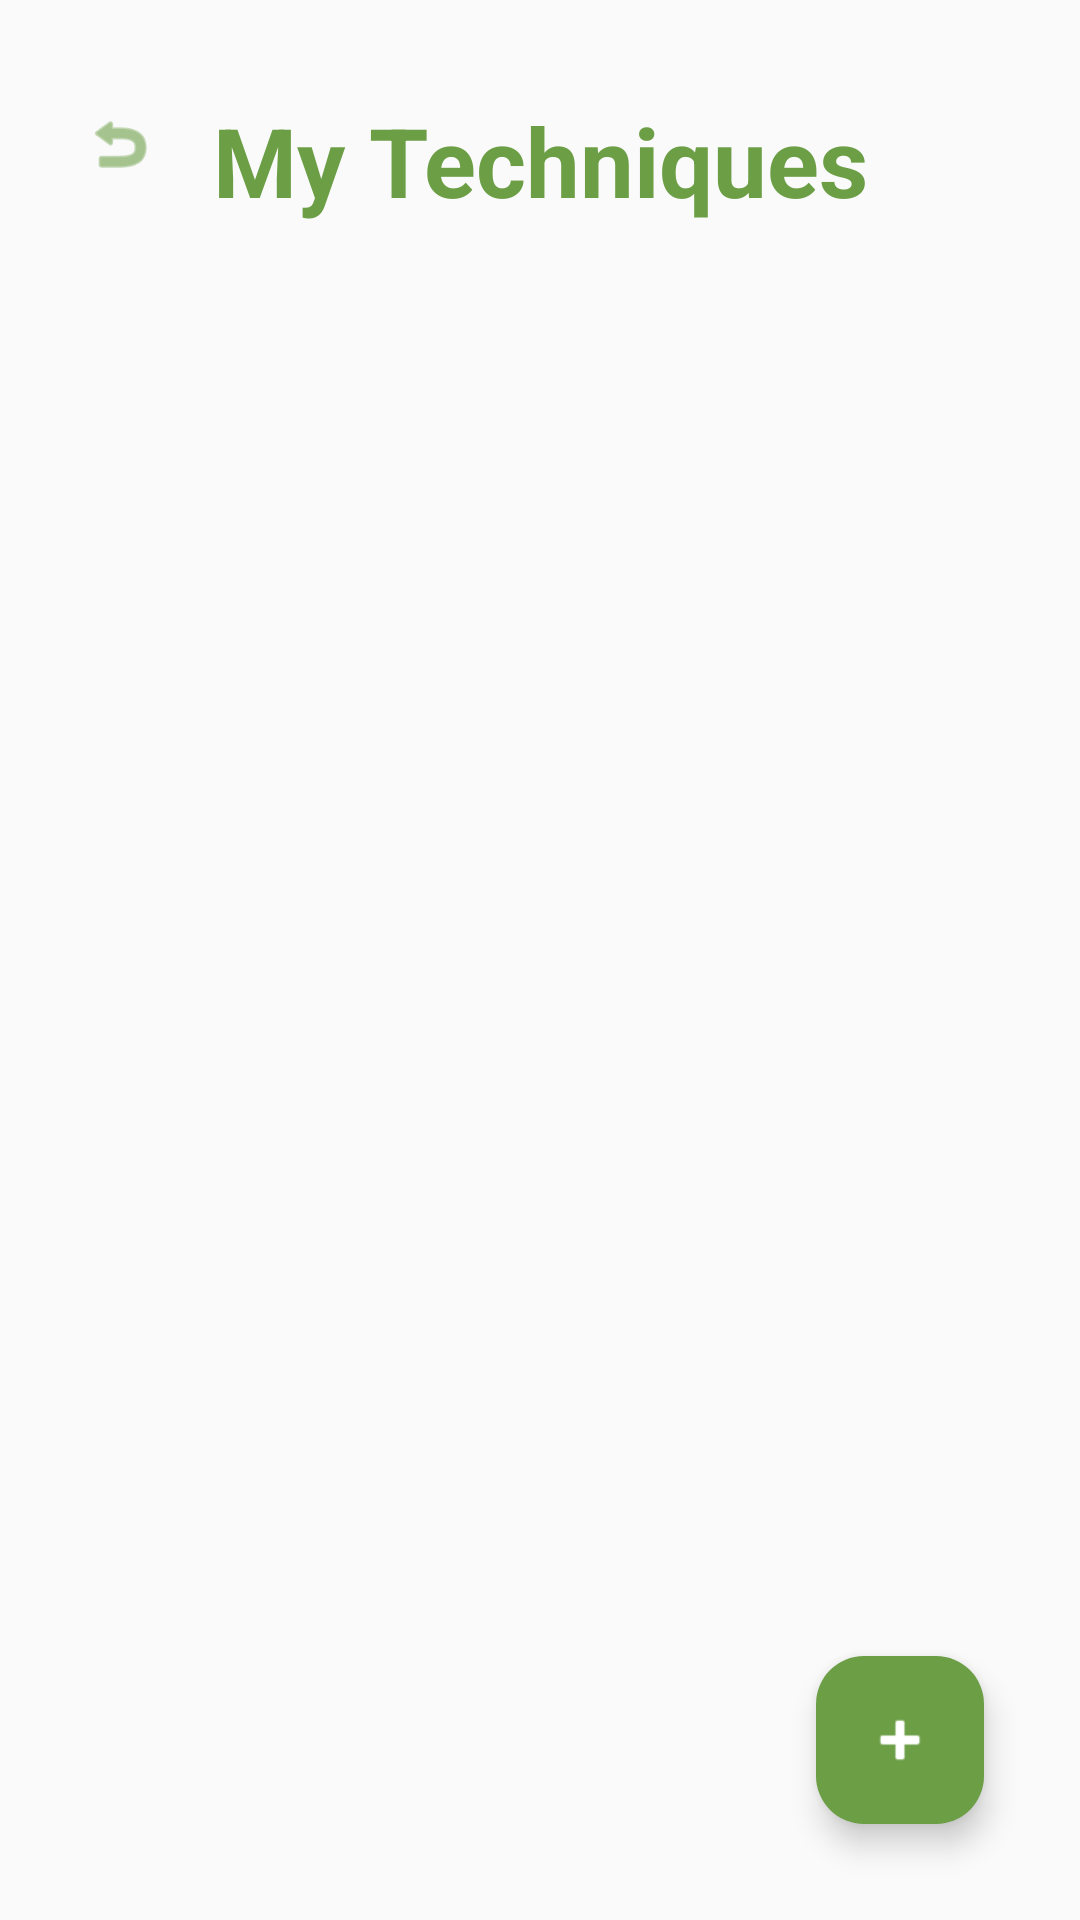

Named icons in this screenshot (1080 x 1920) and their bounding boxes, box=[x1, y1, x2, y2]:
Add Technique: box=[816, 1656, 984, 1824]
revert: box=[95, 121, 147, 168]
